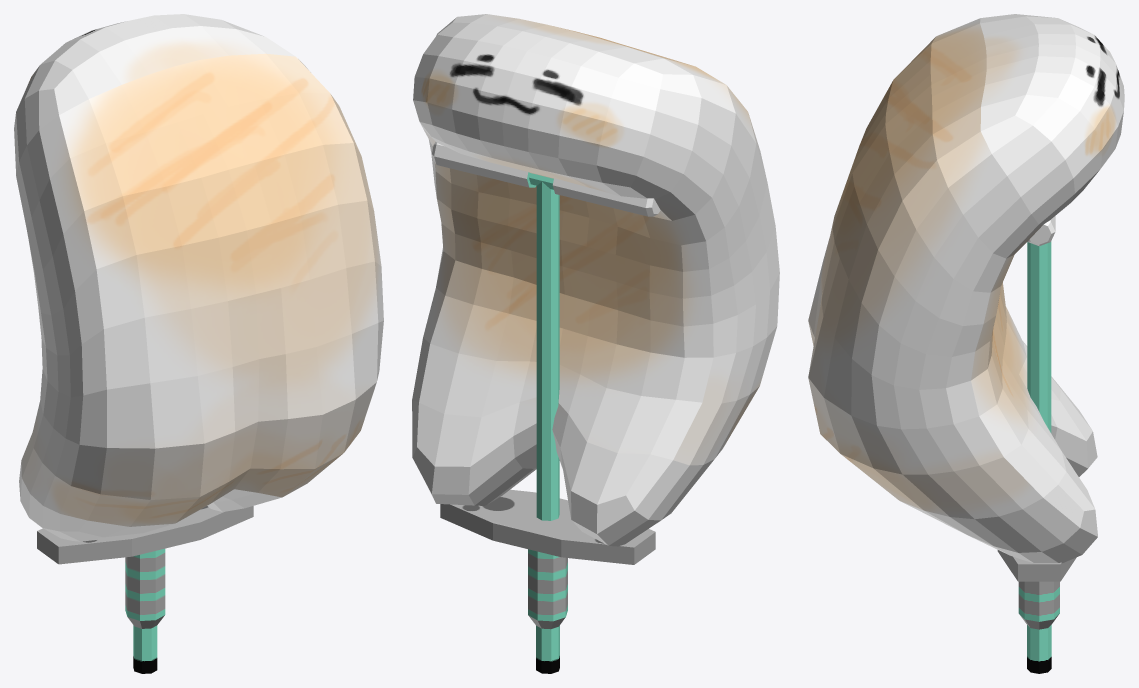
File: HoppingWithMochi.fbx
3 views of the same model, side by side, from view 1: azimuth 30°, elevation 25°; view 2: azimuth 150°, elevation 25°; view 3: azimuth 270°, elevation 25° (orthographic).
Parts seen in each view (by area): view 1: 立方体, Hopping; view 2: 立方体, Hopping; view 3: 立方体, Hopping.
Part boxes in pixels (x1,y1,x2,y2): 立方体: (14,14,383,541); Hopping: (37,506,253,673); 立方体: (412,14,779,546); Hopping: (432,142,660,673); 立方体: (808,14,1124,563); Hopping: (997,216,1076,673).
Bounding box in the file's own units: 43.36 × 85.47 × 39.21.
2 materials, 2 textured.
